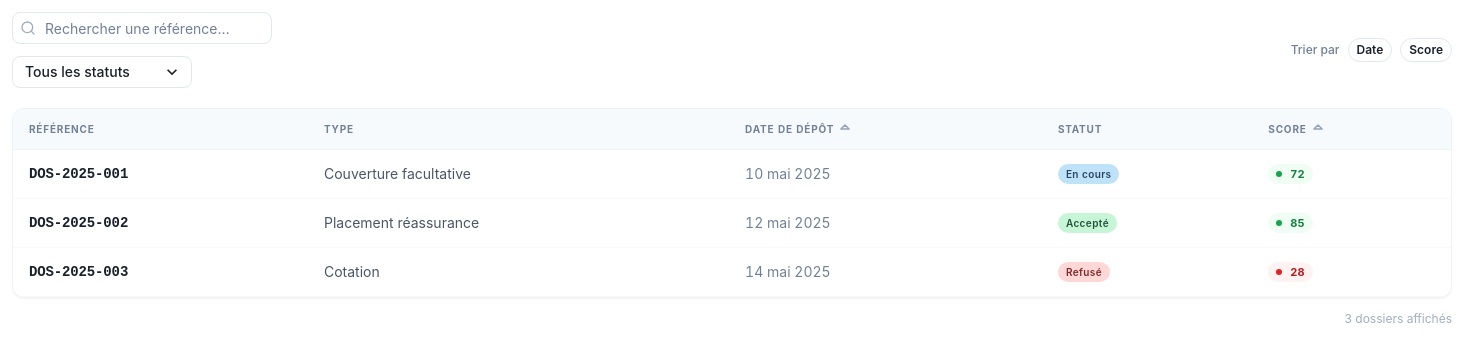
Test: DossierList › filters dossiers by reference search
Expected: the text "DOS-2025-001" is shown, [29, 166, 128, 182]
Step 1. Type "002" into the field with placeholder "Rechercher une référence…" → (142, 28), box [12, 12, 272, 44]
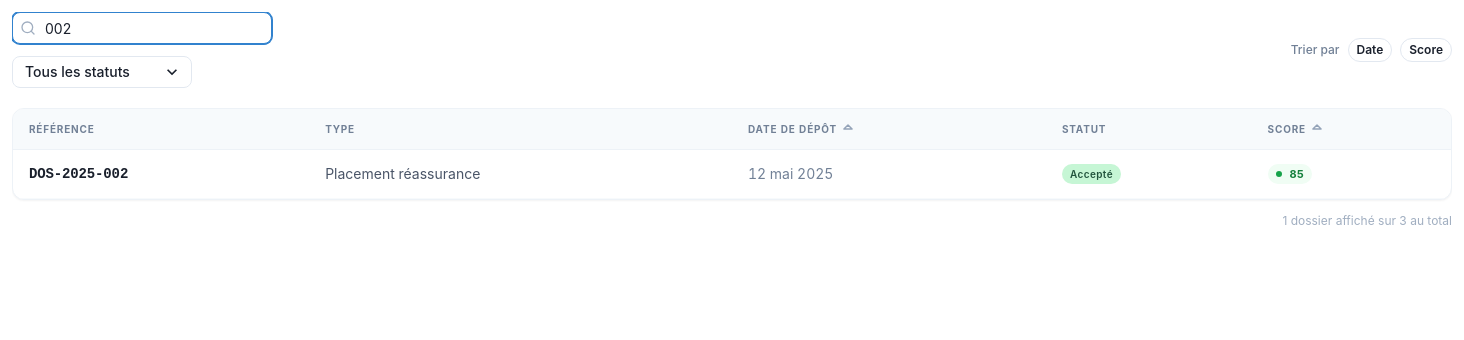
Expected: the text "DOS-2025-002" is shown, [29, 166, 128, 182]
Expected: the text "DOS-2025-001" is gone
Expected: the text "DOS-2025-003" is gone
